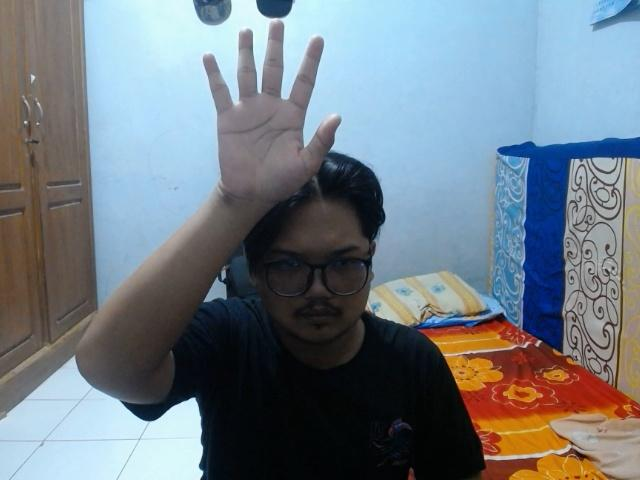Release: (198, 14, 346, 210)
